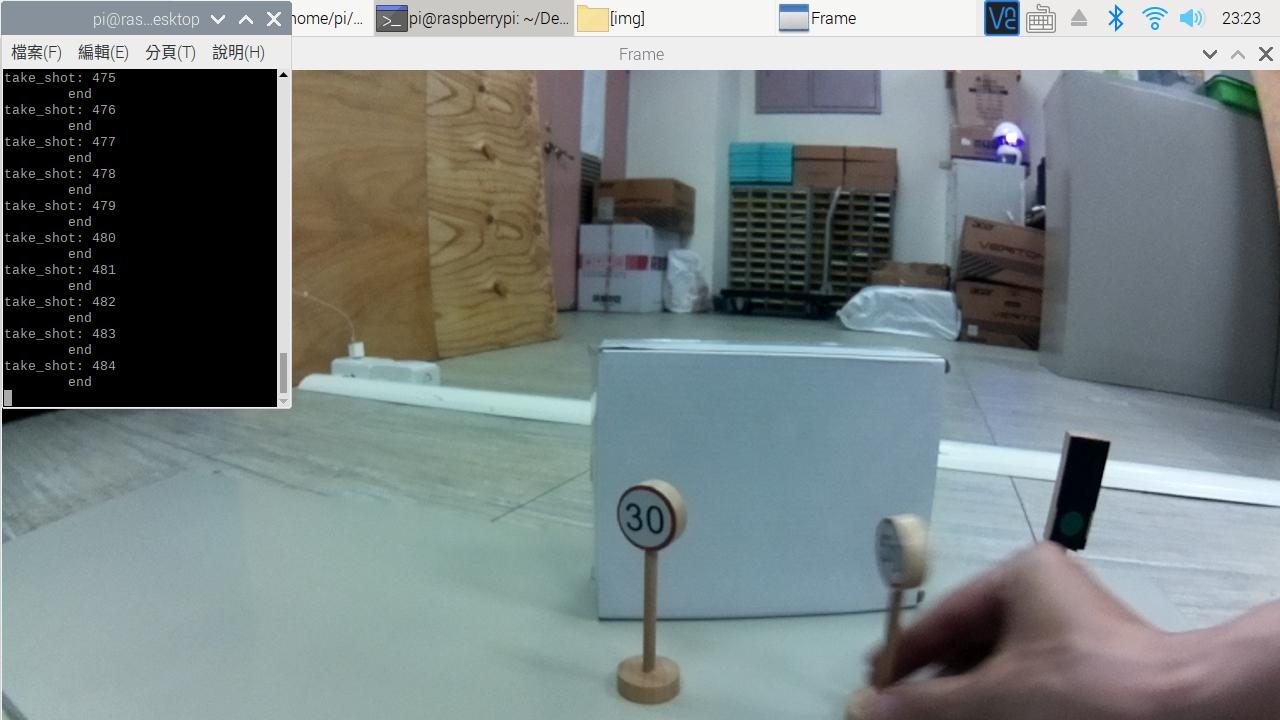Green: (1042, 420, 1112, 559)
Speed30: (608, 478, 698, 556)
